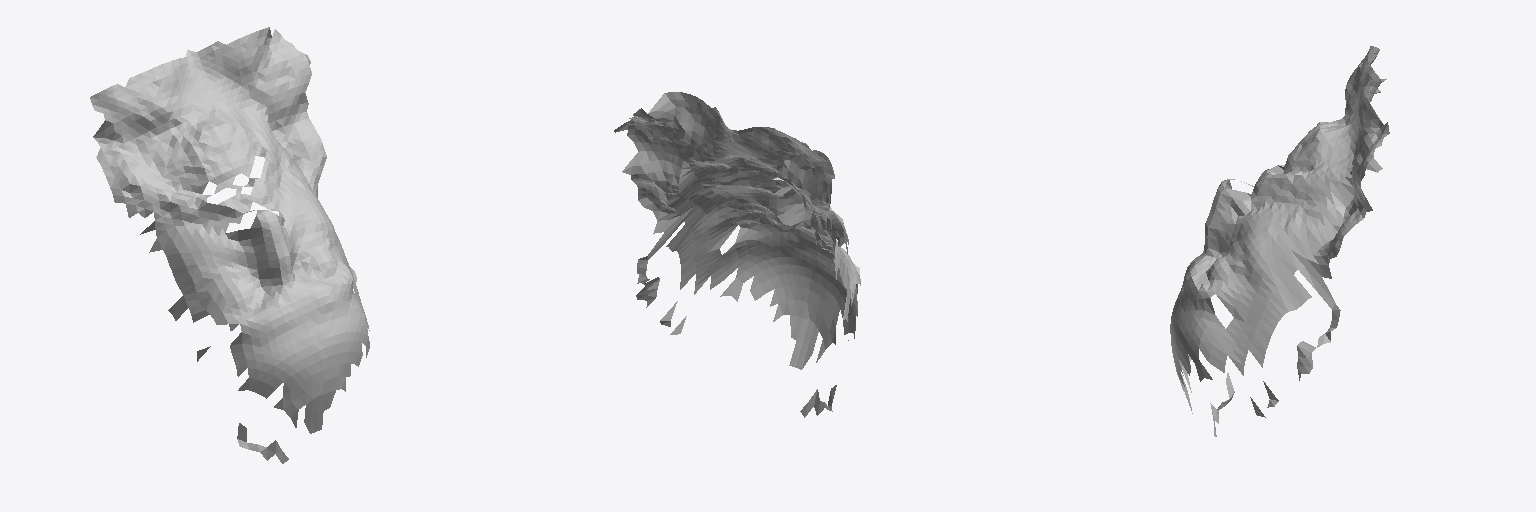
Rendered from jakA2898m.obj.
3 views of the same model, side by side, from view 1: azimuth 30°, elevation 25°; view 2: azimuth 150°, elevation 25°; view 3: azimuth 270°, elevation 25° (orthographic).
Bounding box in the file's own units: 4.1 × 6.21 × 3.36.